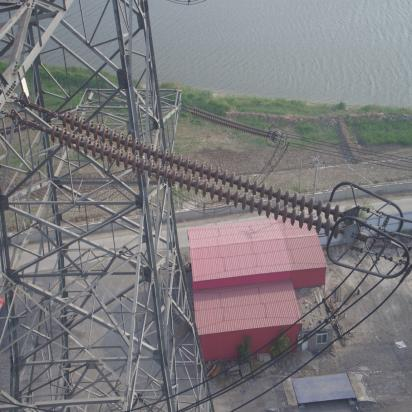insulator: (35, 110, 351, 243)
